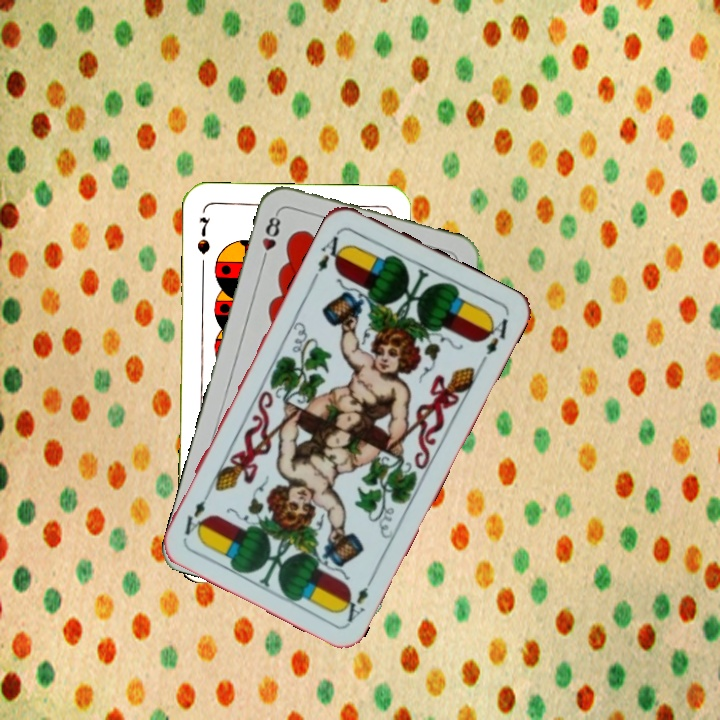EA: (309, 226, 349, 281), (337, 571, 377, 625)
H8: (257, 208, 284, 267)
S7: (193, 213, 213, 257)
